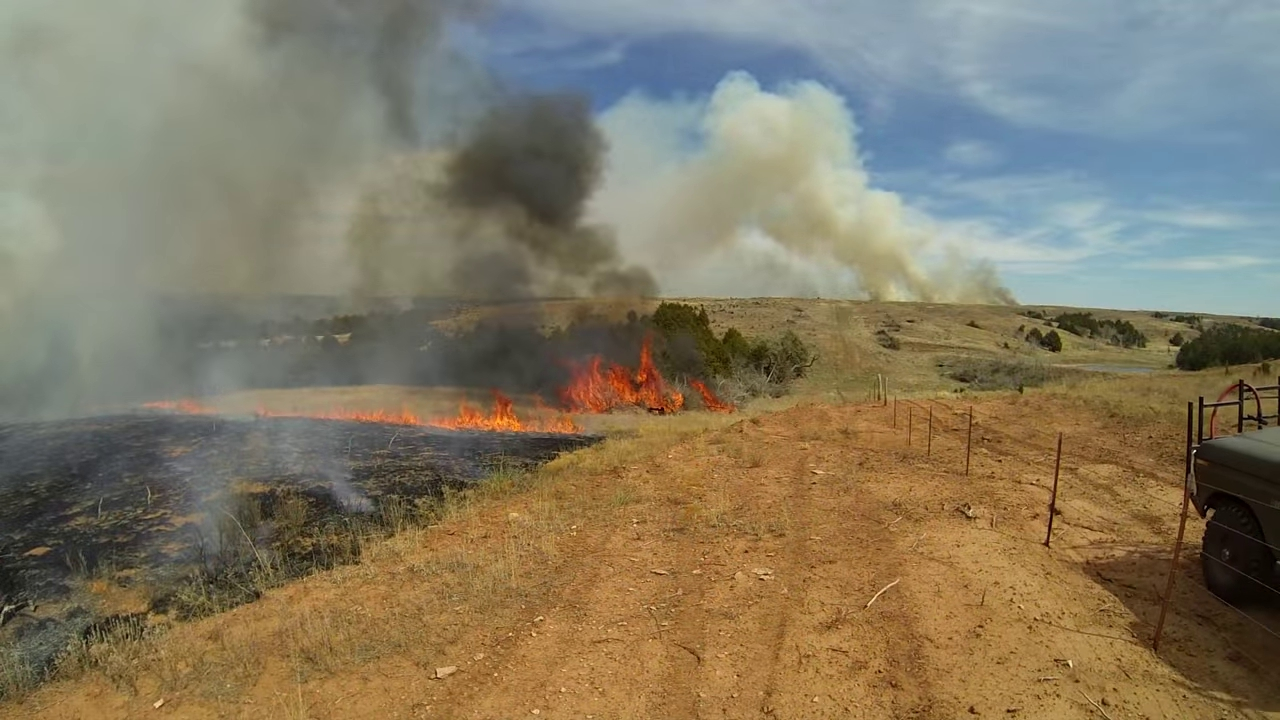forest_fire: (258, 337, 685, 433), (689, 380, 734, 409), (143, 400, 216, 412)
